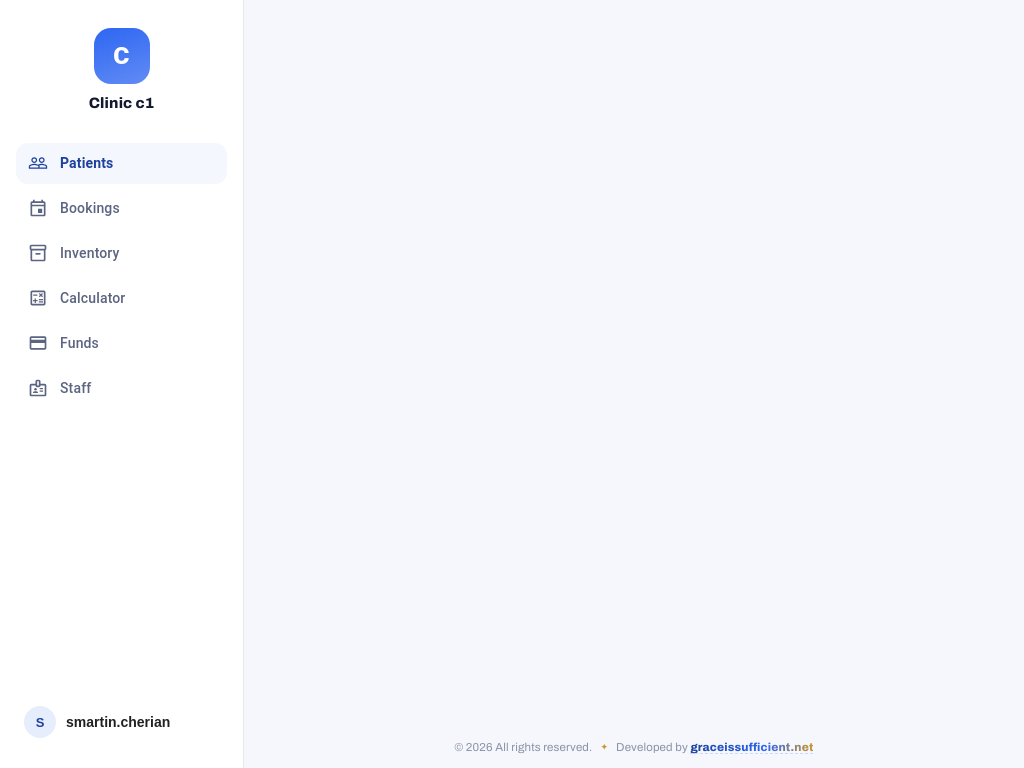
Test: offers the superadmin an Admin menu item
Click the button with aria-label "account". click: (122, 722)
box: [16, 700, 227, 744]
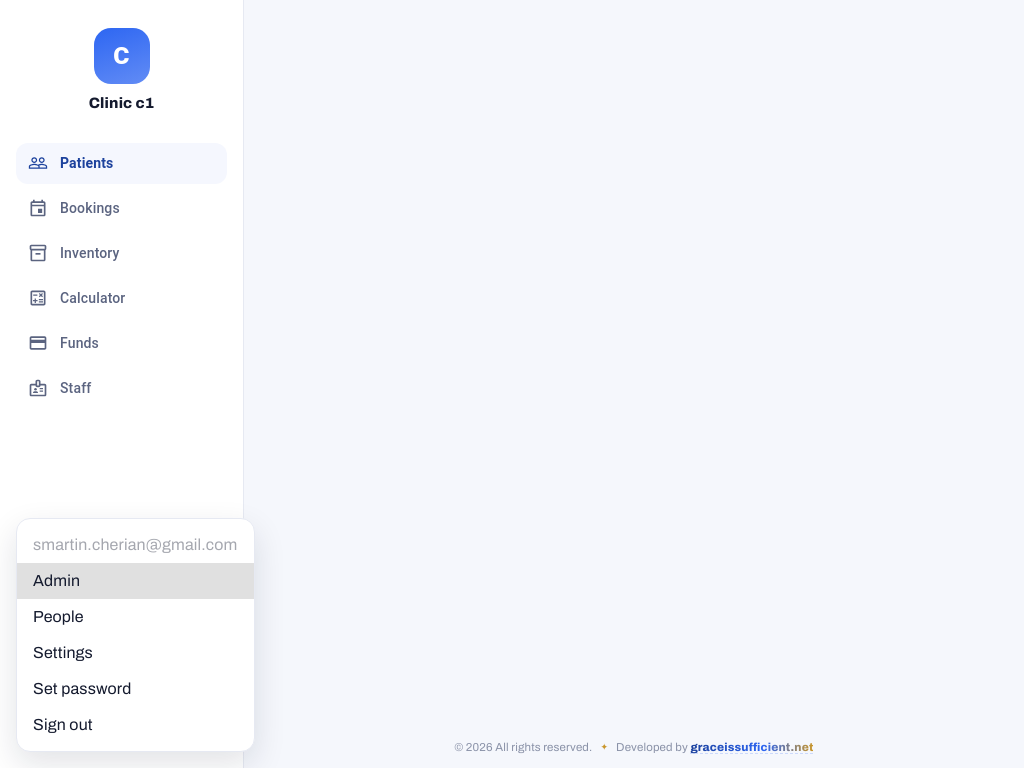
Check: the menu item "Admin" is shown, box [17, 563, 254, 599]
